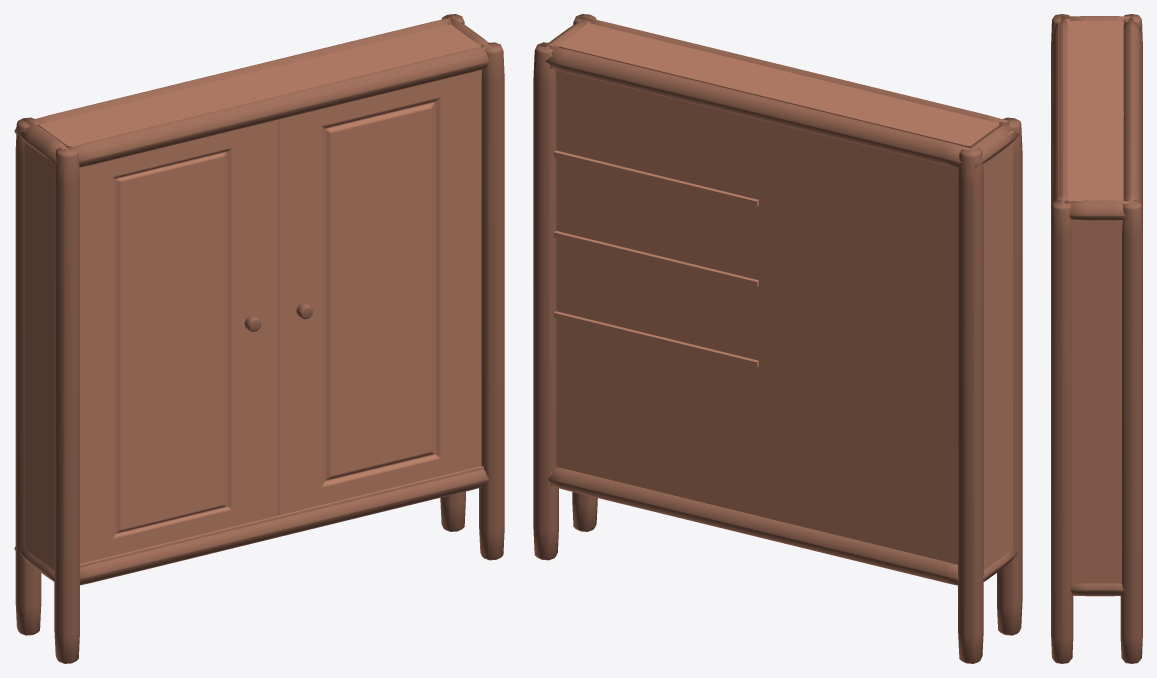
The model's file is Bedroom_closet 1.fbx.
3 views of the same model, side by side, from view 1: azimuth 30°, elevation 25°; view 2: azimuth 150°, elevation 25°; view 3: azimuth 270°, elevation 25° (orthographic). The views are drawn at different scales.
Visible parts, largest first — view 1: Bedroom_closet_right_door, Wardrobe, Bedroom_closet_left_door; view 2: Wardrobe; view 3: Wardrobe.
Boxes of the visible parts, x1,y1,x2,y2 form: Bedroom_closet_right_door: (278,69,481,515); Wardrobe: (14,14,504,663); Bedroom_closet_left_door: (79,119,278,563); Wardrobe: (533,14,1022,663); Wardrobe: (1051,14,1142,663).
Size of the model in its own units: 357 by 391 by 71.07.
